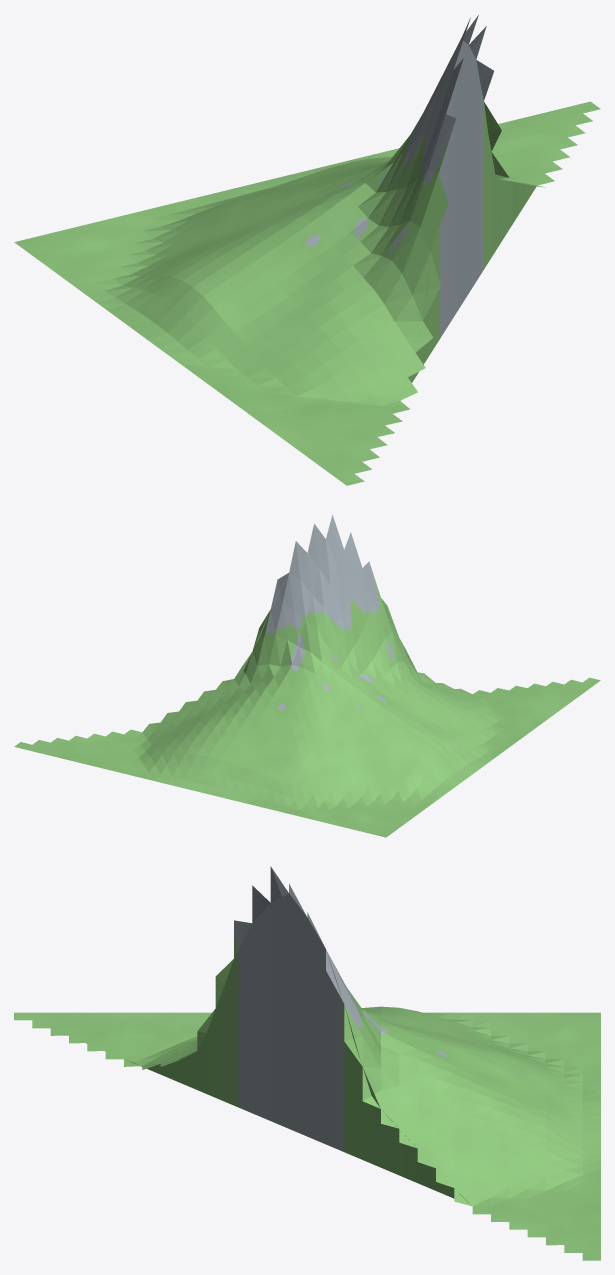
The model's file is Grass_RockyMountains_02_SW.obj.
3 renders of one model, top to bottom at view 1: azimuth 30°, elevation 25°; view 2: azimuth 150°, elevation 25°; view 3: azimuth 270°, elevation 25°, orthographic. The views are drawn at different scales.
Bounding box in the file's own units: 10 × 4.94 × 10.
Materials: 1 (1 with a texture image).
